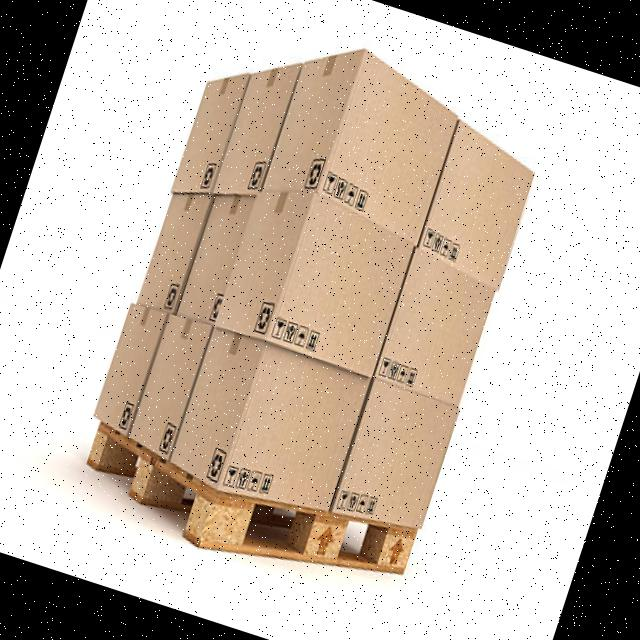Wooden-Pallets: (84, 421, 425, 581)
